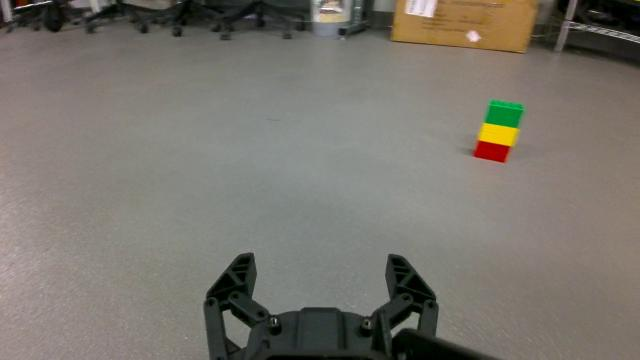lego: (472, 97, 524, 165)
